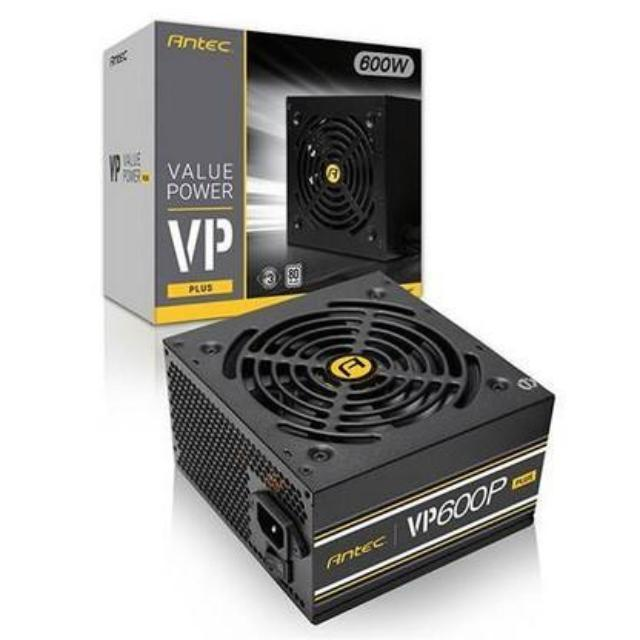PSU: (156, 266, 562, 632)
